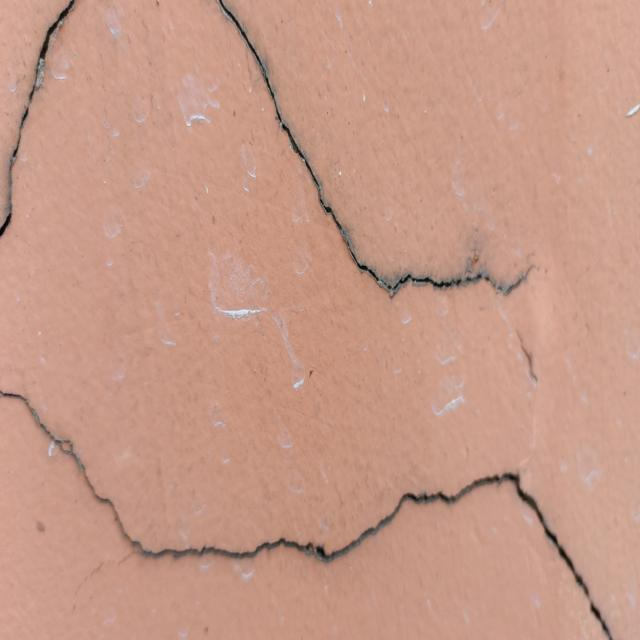branched cracks: (0, 389, 611, 639), (219, 0, 529, 297), (0, 0, 75, 236)
